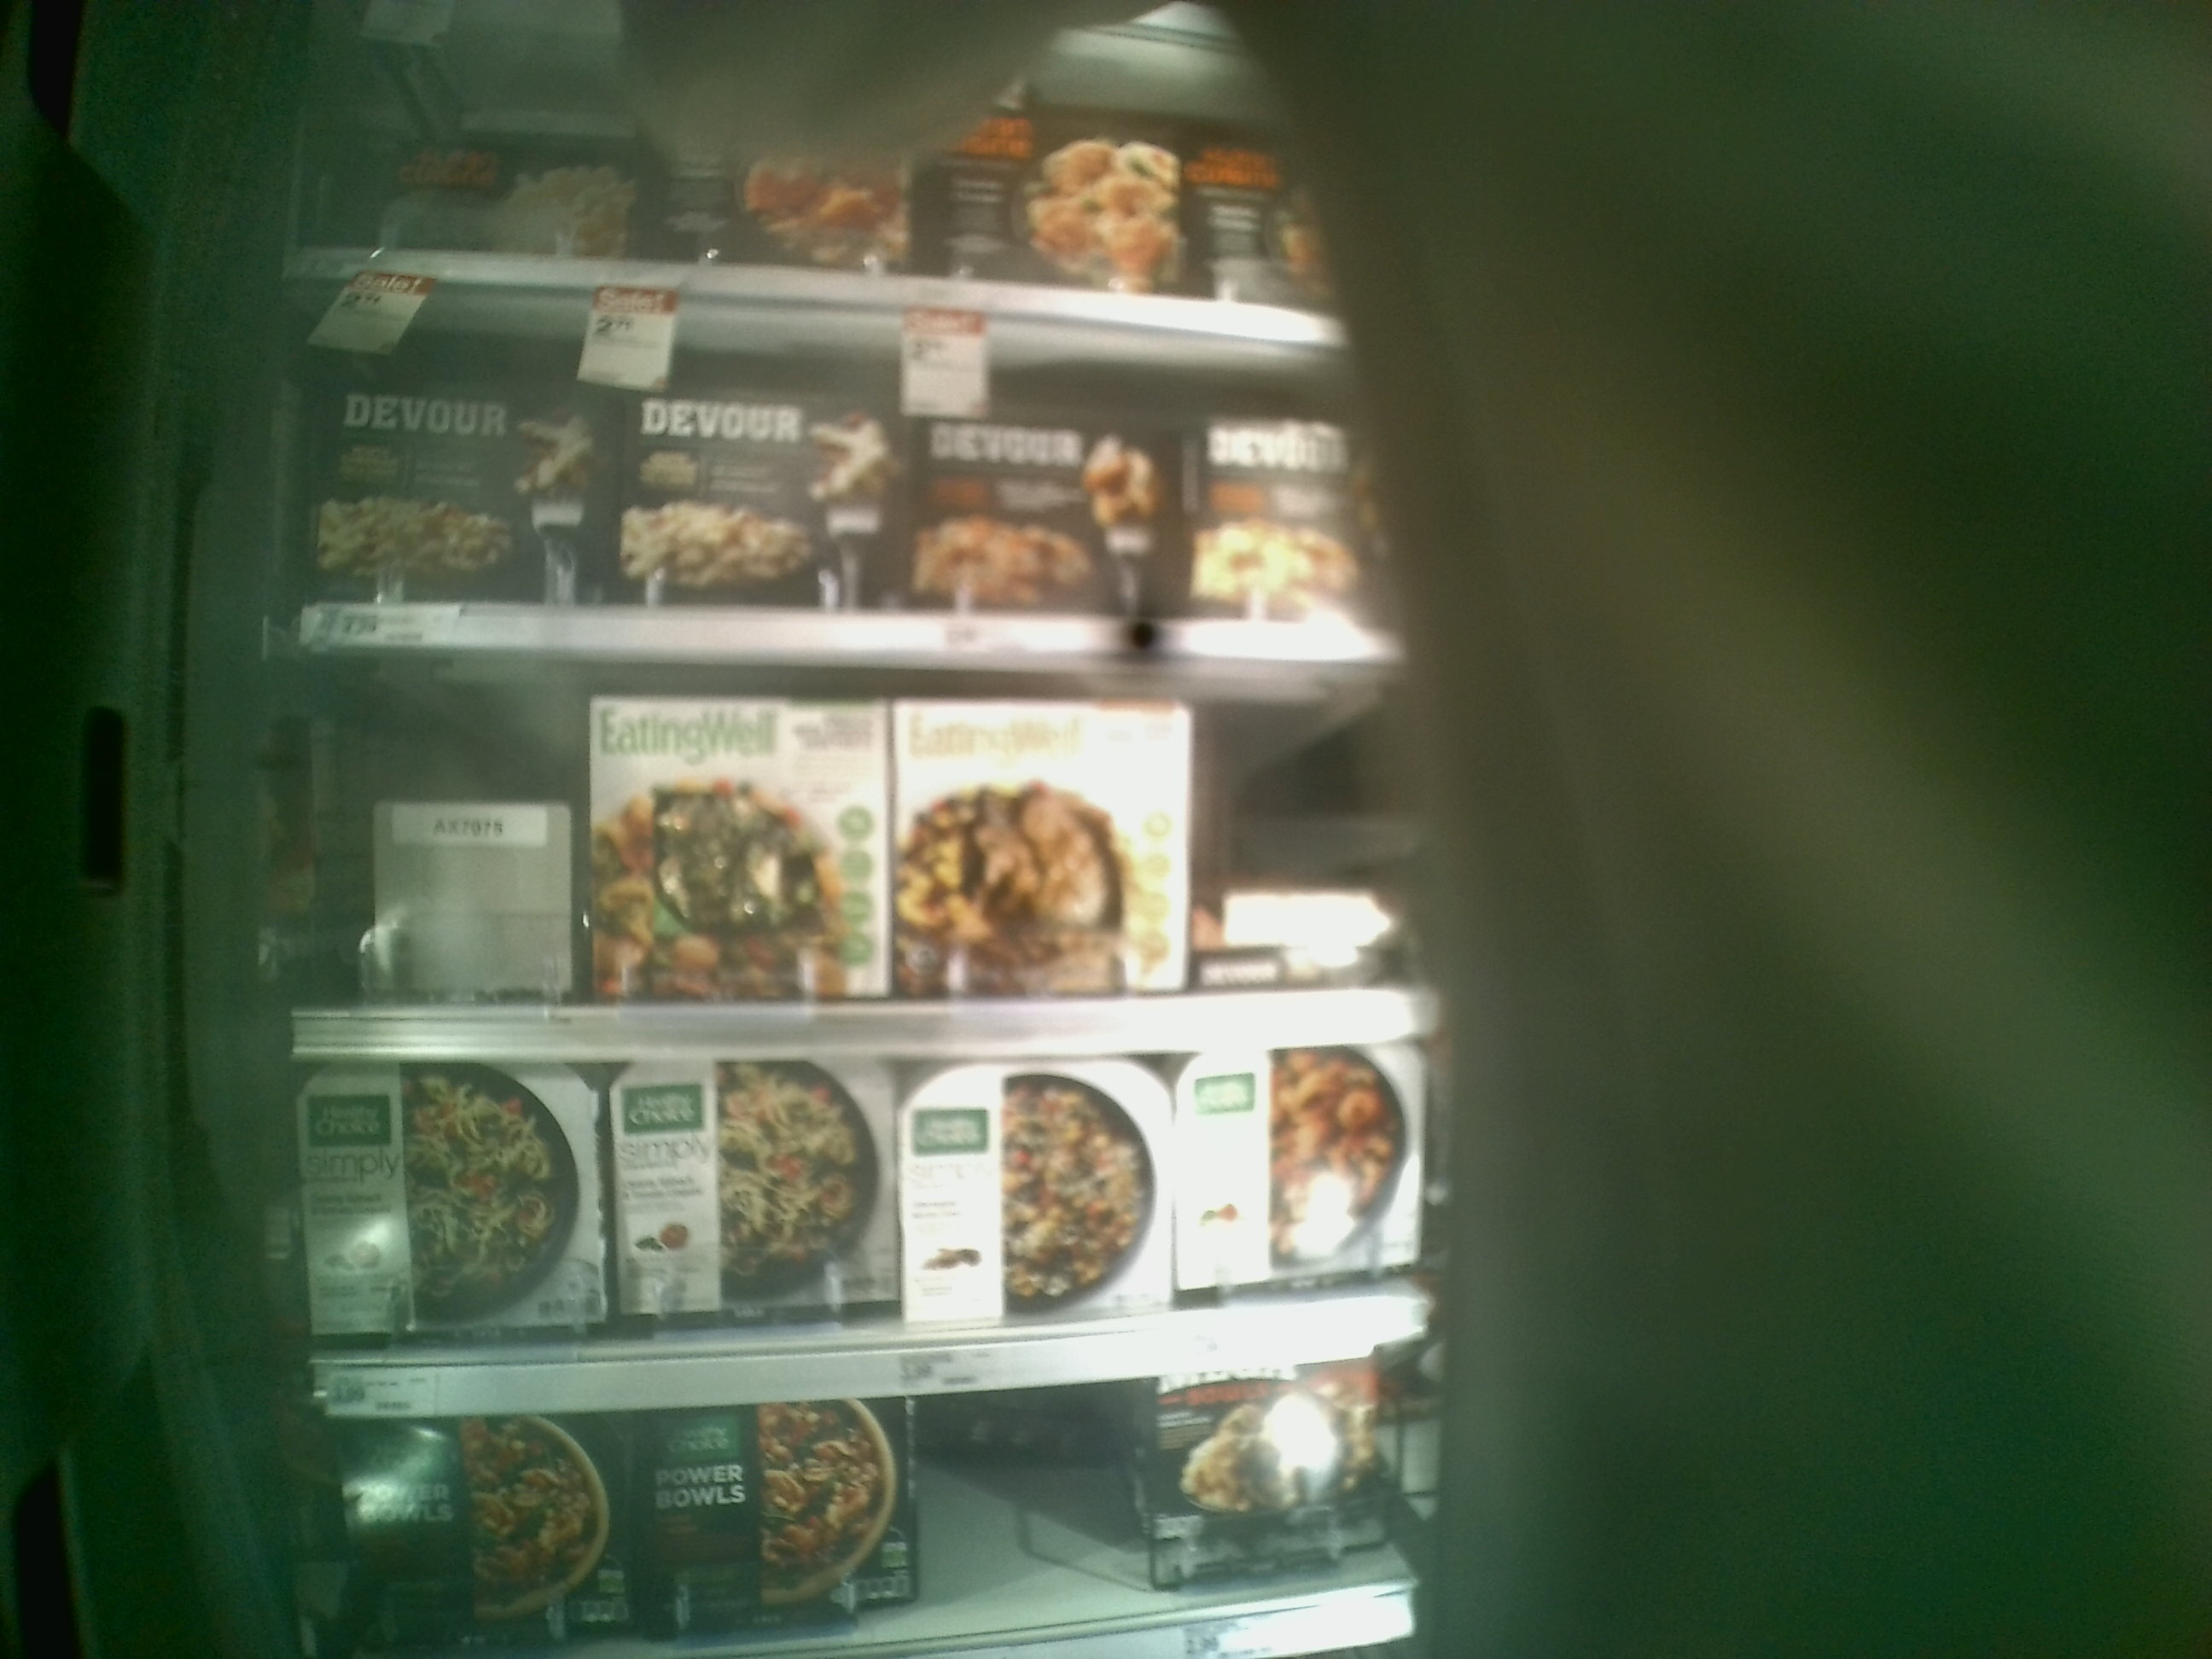shelf: (273, 638, 1439, 1058), (296, 1053, 1439, 1422)
